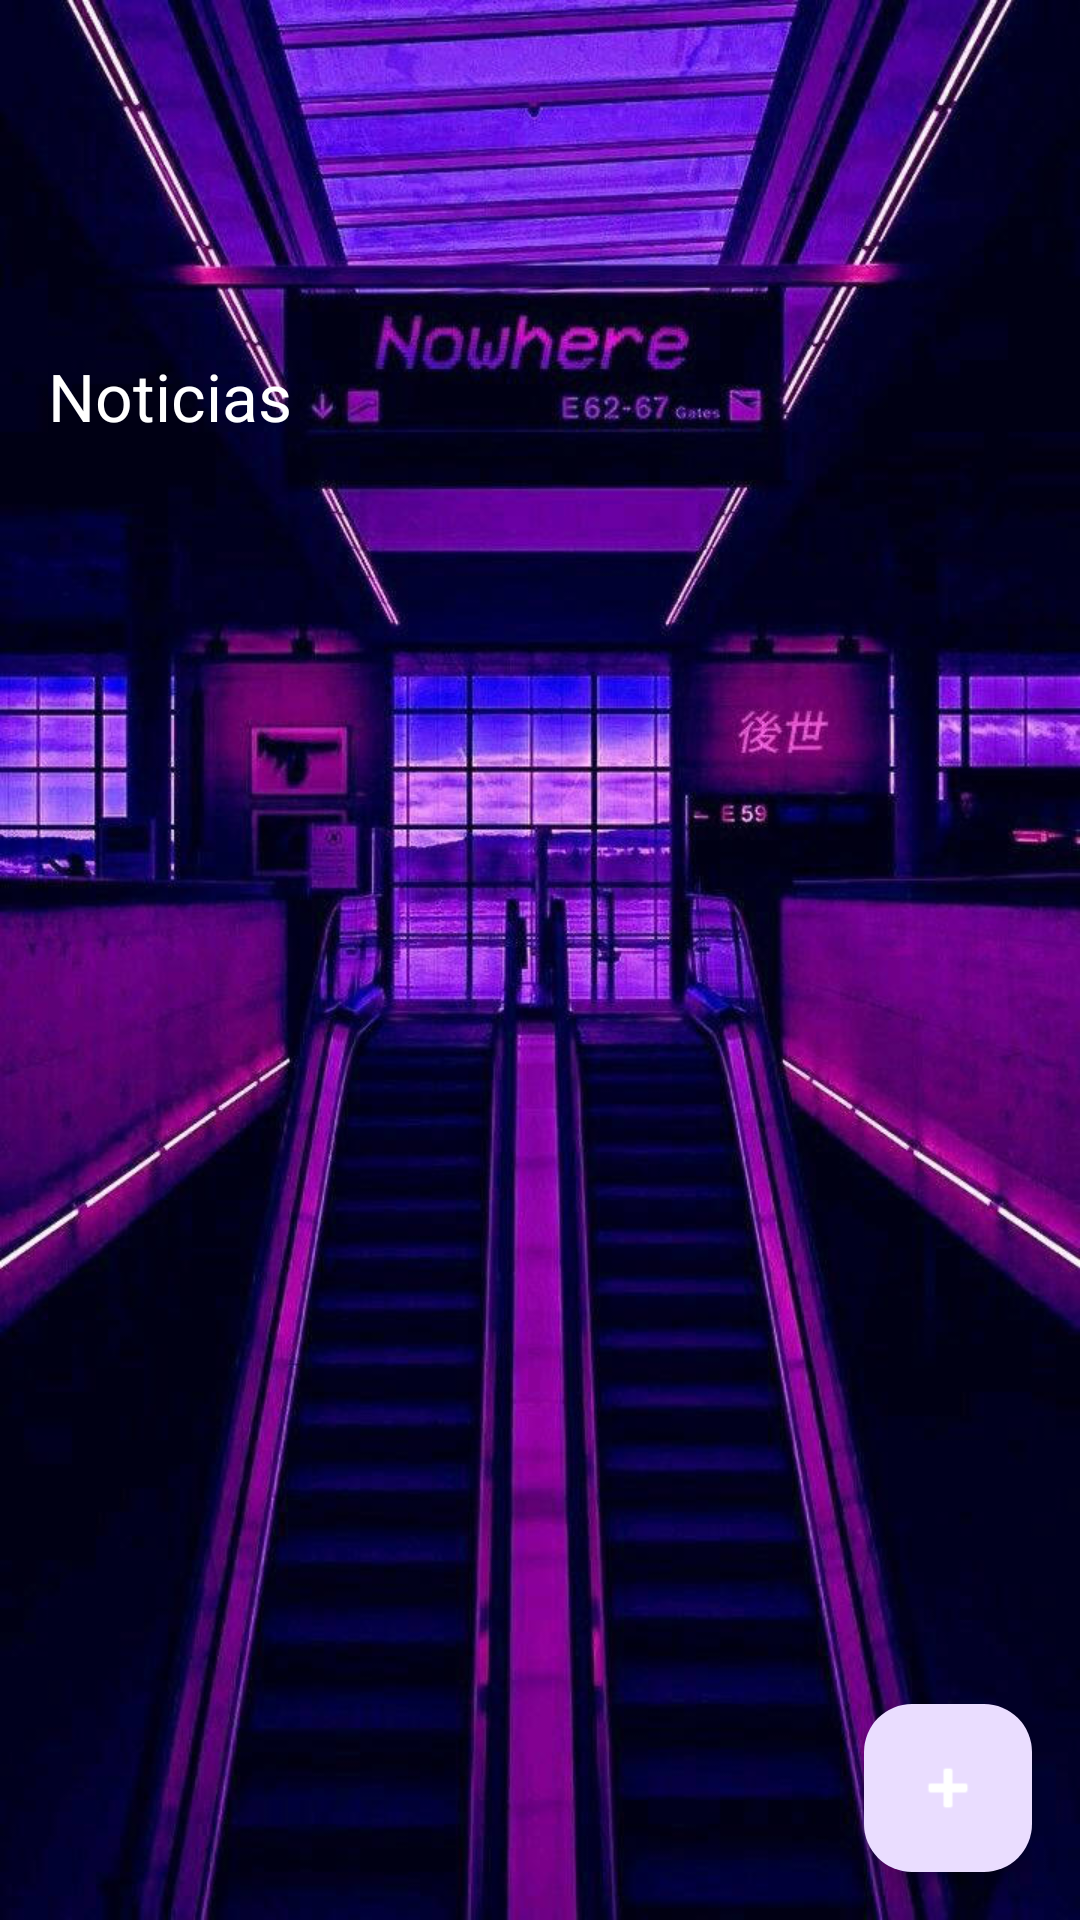

Where to tap for icons on this 1080*1920 app screen, as point (x, y):
Agregar noticia: point (948, 1788)
